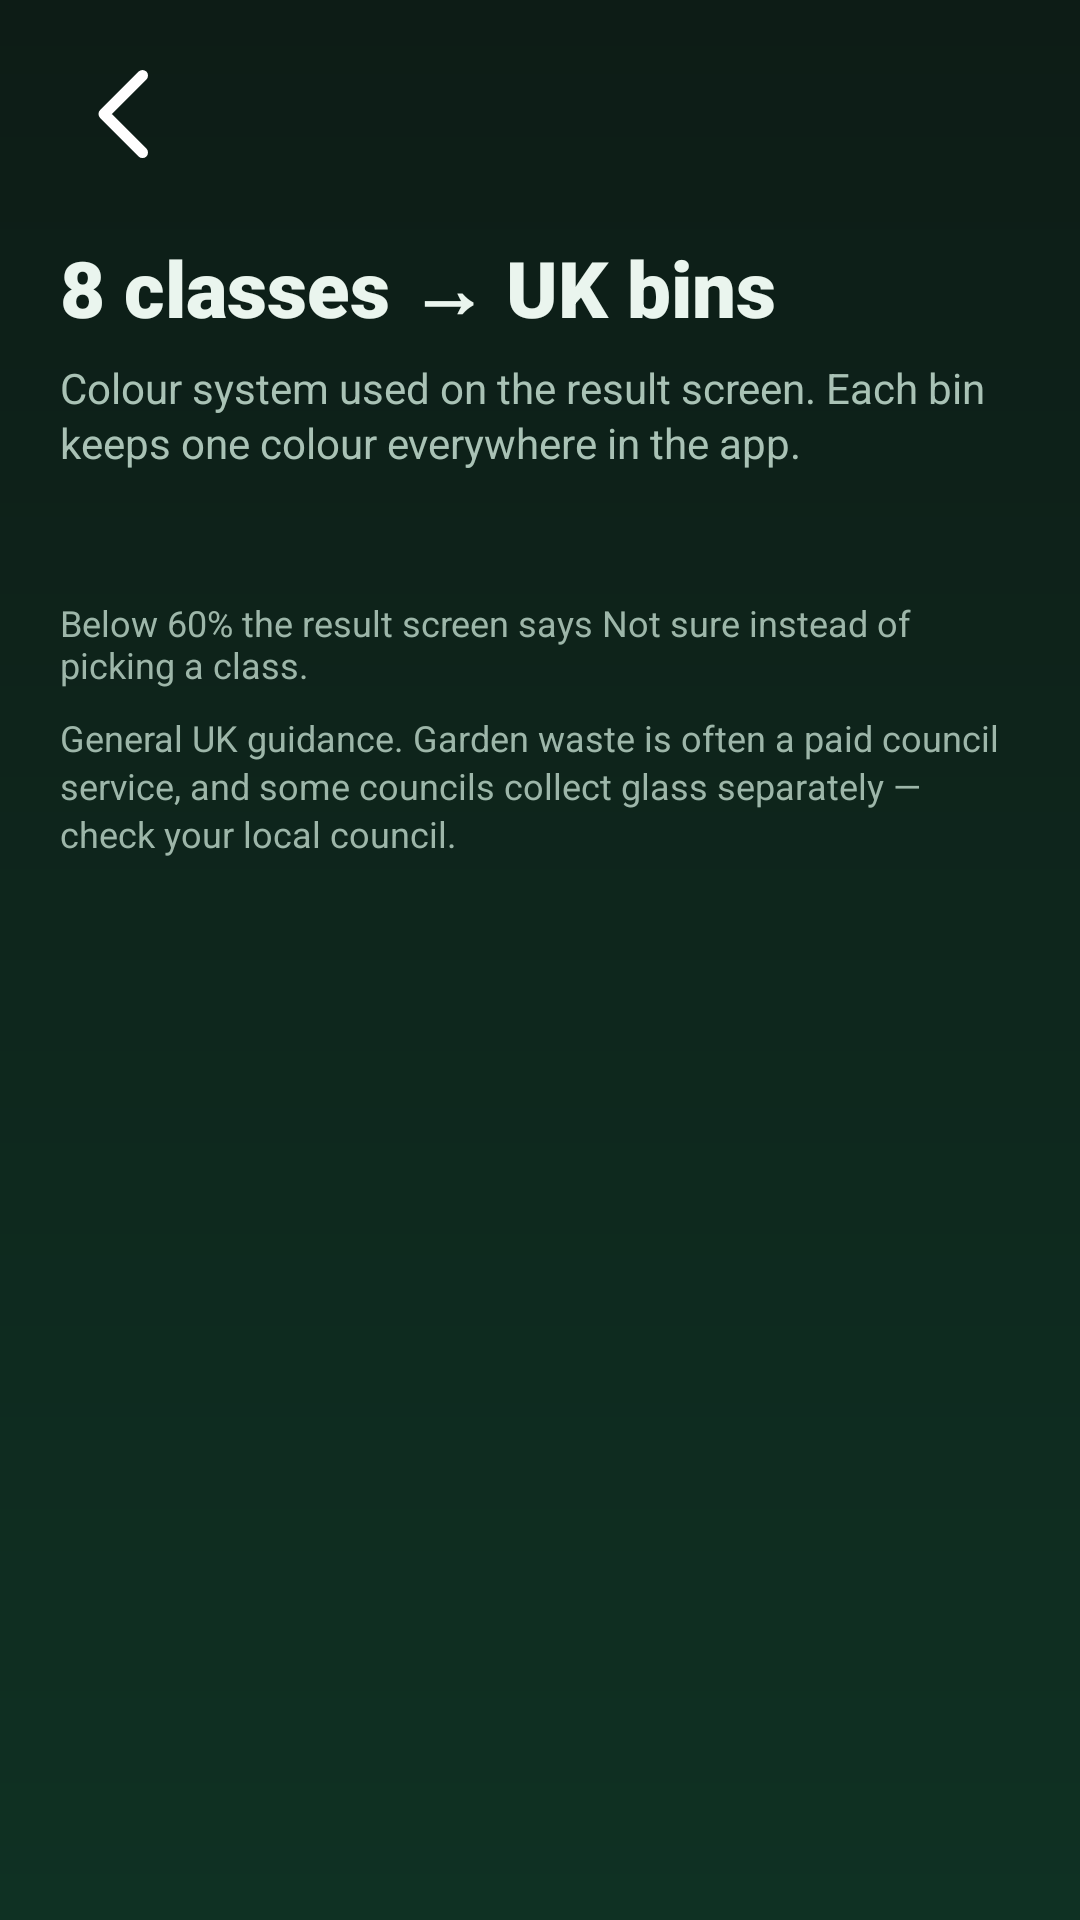

Icons on this 1080*1920 Android screen, each with its box as (x1, y1, x2, y2):
Back: (98, 70, 148, 158)
